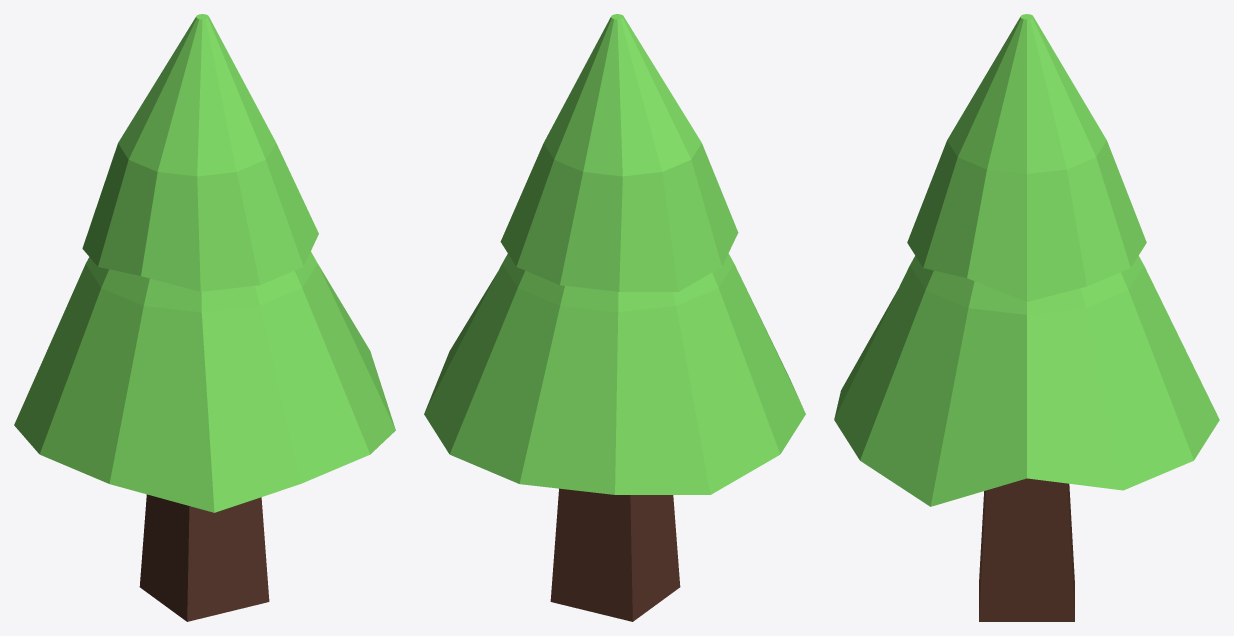
Rendered from tree1.fbx.
3 views of the same model, side by side, from view 1: azimuth 30°, elevation 25°; view 2: azimuth 150°, elevation 25°; view 3: azimuth 270°, elevation 25° (orthographic).
Parts seen in each view (by area): view 1: tree1; view 2: tree1; view 3: tree1.
Part boxes in pixels (x1=…): tree1: x1=14, y1=14, x2=395, y2=621; tree1: x1=424, y1=14, x2=805, y2=621; tree1: x1=834, y1=14, x2=1219, y2=621.
Bounding box in the file's own units: 466 × 779 × 466.
